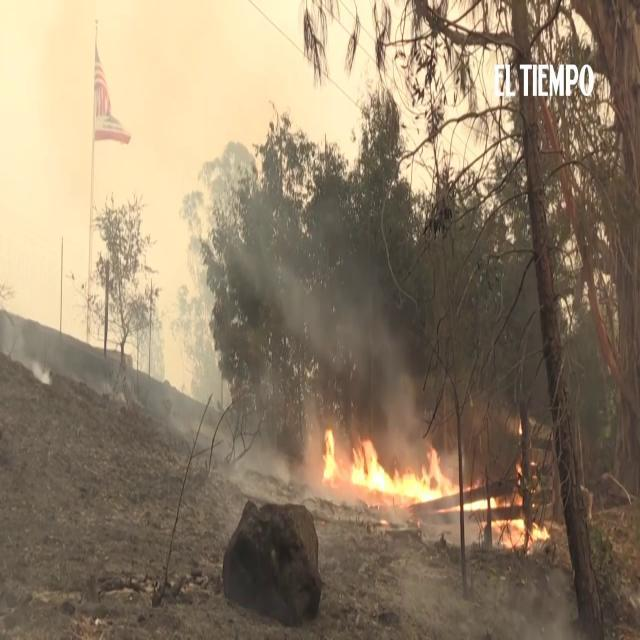Fire: (352, 441, 448, 506), (322, 427, 338, 482)
Smoke: (242, 199, 352, 335), (155, 266, 216, 416)
